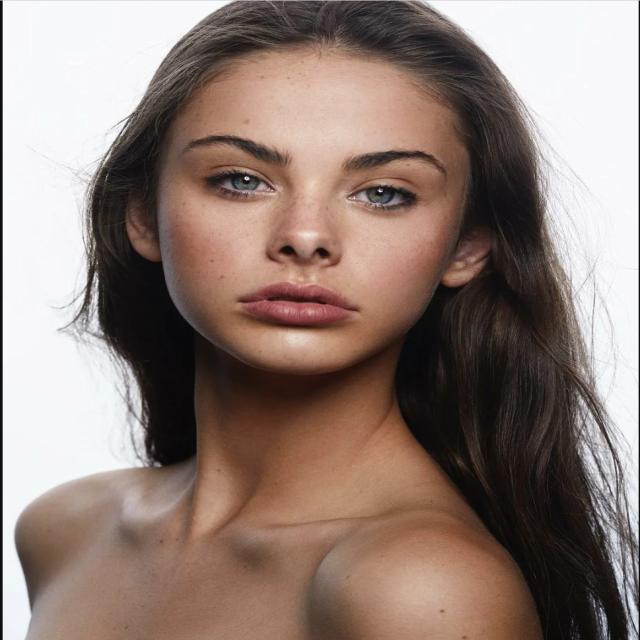earlobe: (131, 227, 163, 264), (440, 256, 474, 289)
eye: (347, 182, 418, 208), (204, 172, 278, 196)
nose: (265, 246, 344, 279)
wholeear: (440, 201, 498, 288), (125, 172, 164, 264)
